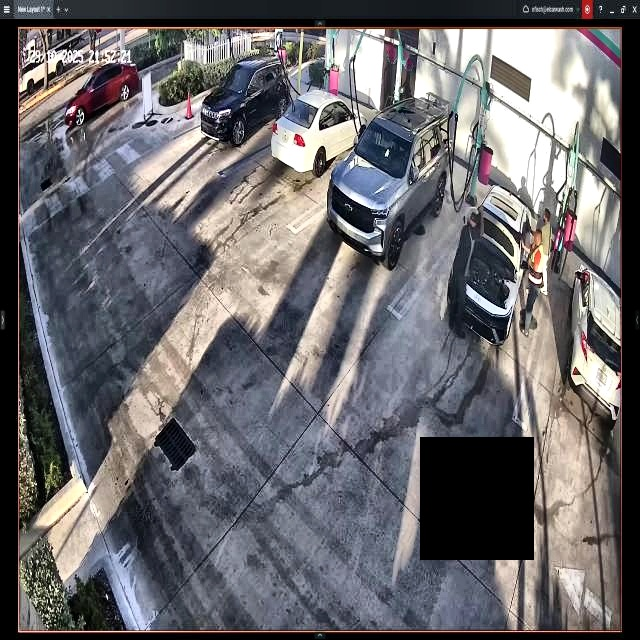Car: (328, 100, 451, 263), (448, 182, 530, 345), (202, 58, 290, 153), (272, 92, 366, 170)
